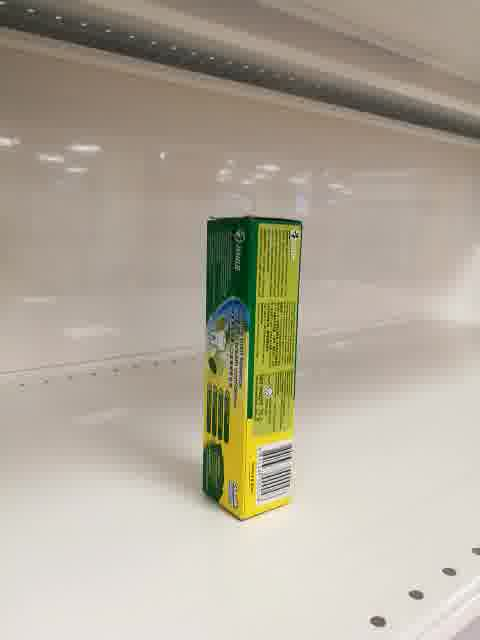toothpaste: (201, 215, 303, 522)
